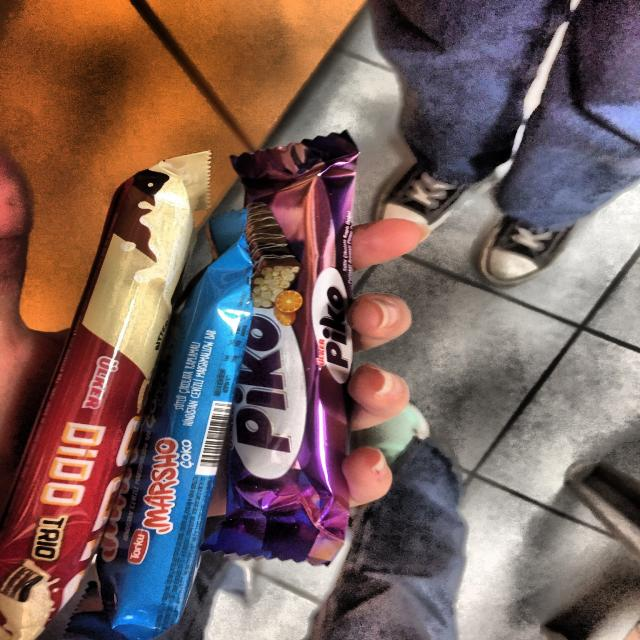Plastic: (0, 145, 220, 624), (224, 138, 464, 571), (102, 258, 276, 640)
